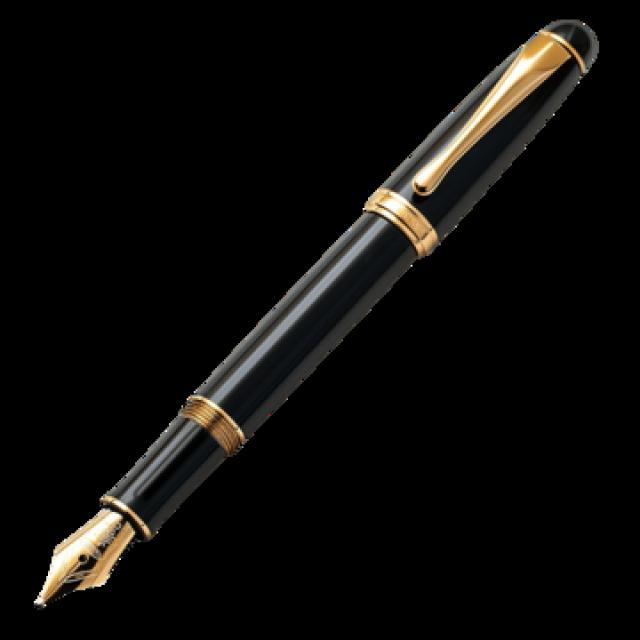pen: (11, 2, 619, 625)
